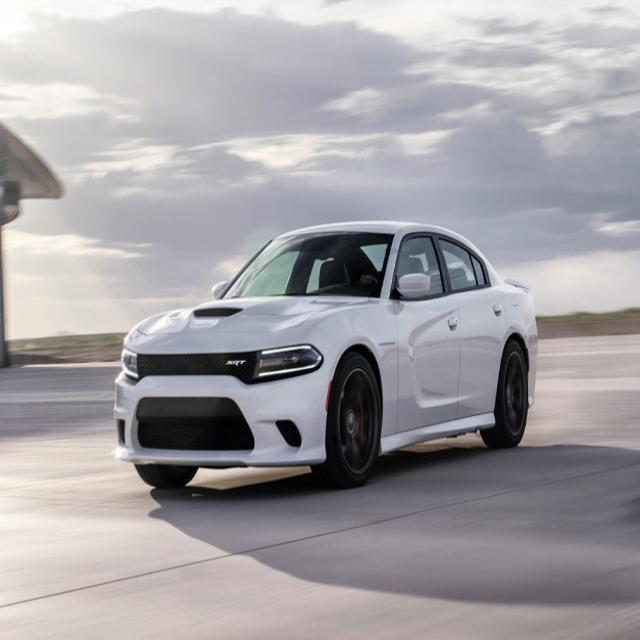door: (435, 234, 504, 420)
front_bumper: (115, 328, 341, 467)
front_glass: (223, 228, 393, 304)
front_left_side_door: (391, 229, 462, 436)
front_left_side_light: (251, 342, 323, 383)
front_left_side_mirror: (398, 272, 432, 302)
front_right_side_light: (119, 343, 140, 382)
front_right_side_mirror: (210, 278, 228, 302)
wheel: (323, 354, 381, 482), (492, 340, 527, 446)
